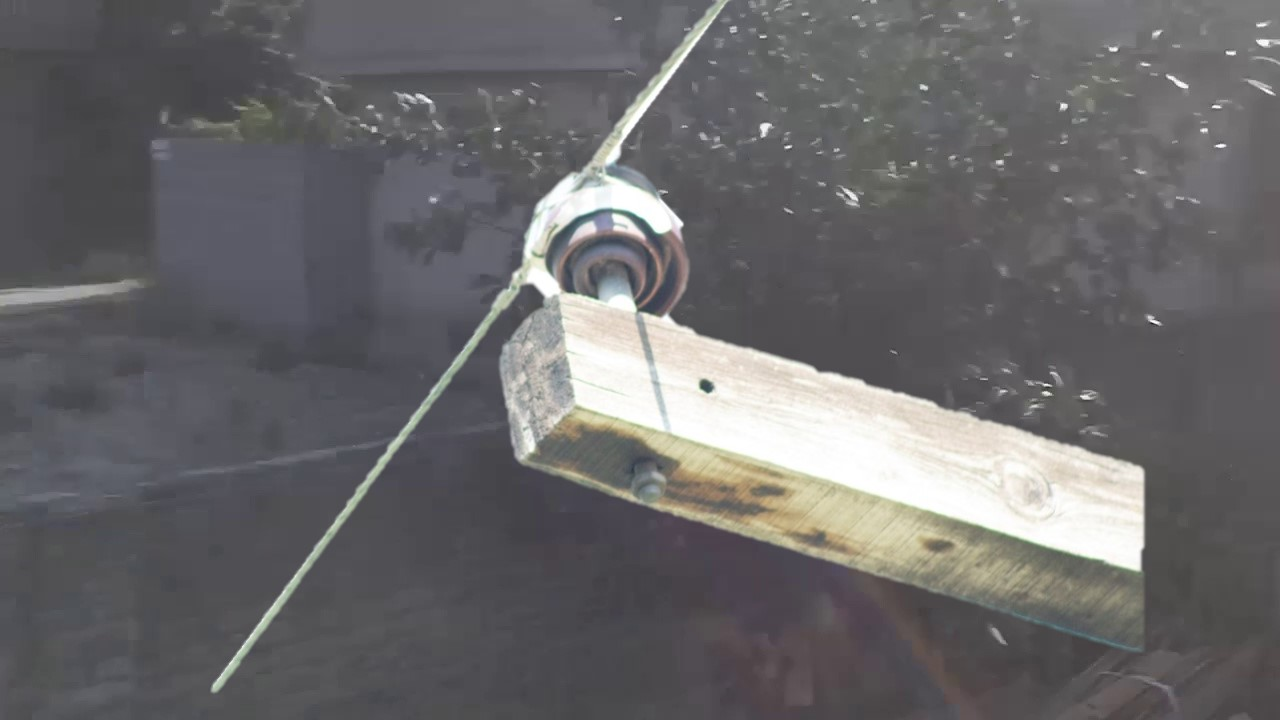defect_pin: (522, 147, 697, 323)
